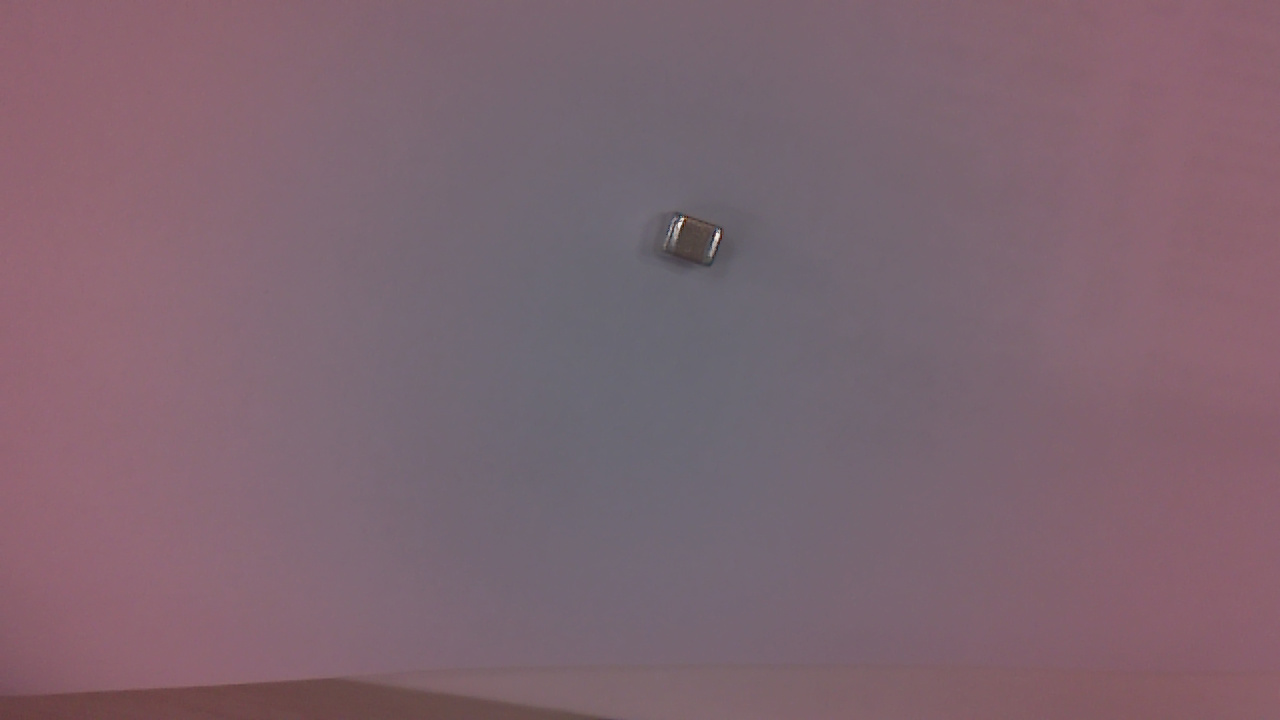Condensator: (662, 210, 731, 275)
